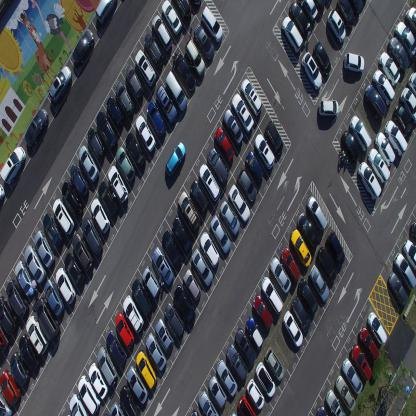car: (34, 296, 60, 342), (0, 144, 26, 185), (164, 70, 188, 114), (24, 108, 49, 149), (231, 92, 255, 133), (77, 374, 101, 415), (47, 65, 72, 104), (357, 161, 381, 201), (289, 227, 312, 268), (25, 314, 48, 355), (6, 278, 29, 319), (393, 251, 416, 292), (173, 283, 195, 325), (178, 190, 200, 232), (96, 346, 118, 388), (151, 246, 174, 286), (198, 162, 221, 202), (173, 52, 196, 92), (71, 234, 95, 272), (233, 326, 256, 365), (13, 259, 36, 298), (384, 118, 407, 157), (228, 184, 250, 224), (106, 164, 128, 204), (130, 277, 152, 317), (226, 341, 248, 381), (207, 145, 229, 185), (191, 246, 213, 286), (145, 332, 167, 372), (135, 349, 157, 389), (126, 364, 148, 404), (96, 110, 118, 150), (297, 211, 319, 251), (261, 275, 283, 315), (72, 28, 95, 66), (364, 82, 387, 120), (372, 68, 395, 106), (161, 229, 182, 270), (81, 216, 102, 257), (156, 84, 177, 125), (134, 114, 156, 153), (52, 196, 74, 235), (122, 293, 144, 332), (240, 77, 262, 116), (24, 244, 46, 283), (18, 333, 40, 372), (200, 6, 223, 43), (134, 49, 157, 86), (209, 214, 230, 254), (184, 38, 205, 78), (216, 358, 237, 398), (395, 20, 415, 62), (43, 279, 65, 317), (164, 140, 186, 178), (63, 251, 85, 289), (151, 14, 173, 52), (281, 15, 303, 53), (350, 114, 372, 152), (368, 147, 390, 185), (171, 215, 192, 254), (309, 263, 330, 302), (301, 51, 322, 90), (124, 131, 146, 168), (388, 35, 410, 72), (388, 271, 410, 308), (350, 344, 372, 381), (88, 361, 108, 401), (34, 229, 54, 269), (115, 146, 136, 184), (98, 180, 119, 218), (78, 144, 99, 182), (61, 179, 82, 217), (254, 132, 275, 170), (105, 329, 126, 367), (55, 266, 76, 304), (42, 211, 63, 249), (0, 368, 21, 406), (306, 194, 327, 232), (270, 256, 291, 294), (342, 357, 363, 395), (358, 325, 380, 361), (334, 375, 356, 411), (282, 309, 303, 346), (222, 108, 243, 145), (199, 231, 220, 268), (375, 130, 396, 167), (291, 294, 311, 332), (298, 276, 318, 314), (114, 311, 134, 349), (90, 197, 110, 235), (146, 100, 166, 138), (194, 23, 214, 61), (236, 167, 257, 203), (163, 300, 184, 336), (214, 126, 235, 162), (280, 245, 300, 282), (264, 119, 284, 156), (10, 350, 30, 387), (256, 361, 276, 398), (119, 383, 142, 415), (161, 0, 182, 35), (264, 346, 285, 381), (379, 50, 400, 85), (288, 1, 310, 34), (220, 199, 240, 235), (394, 102, 414, 138), (341, 130, 362, 164), (125, 64, 144, 101), (318, 245, 337, 282), (69, 163, 89, 198), (144, 32, 164, 67), (0, 295, 17, 336), (115, 80, 134, 116), (326, 9, 346, 43), (367, 310, 387, 344), (155, 316, 174, 351), (327, 230, 345, 266), (313, 40, 331, 76), (245, 314, 264, 348), (190, 179, 209, 213), (253, 294, 272, 328), (208, 374, 227, 408), (105, 95, 124, 128), (182, 268, 201, 301), (324, 388, 347, 415), (245, 150, 263, 184), (246, 378, 265, 410), (400, 86, 416, 124), (142, 265, 160, 298), (87, 127, 105, 160), (95, 0, 118, 25), (198, 390, 220, 415), (336, 0, 356, 27), (402, 239, 416, 273), (68, 393, 89, 415), (344, 51, 364, 74), (170, 0, 192, 19), (237, 394, 256, 415), (318, 98, 339, 117), (301, 0, 318, 21), (405, 7, 416, 37), (0, 390, 13, 415), (0, 326, 9, 353), (110, 400, 126, 415), (408, 71, 415, 99), (349, 0, 363, 13), (409, 218, 416, 243), (315, 404, 329, 415), (314, 0, 327, 9), (0, 183, 5, 205), (189, 0, 202, 8), (190, 408, 200, 416), (228, 410, 237, 416)
